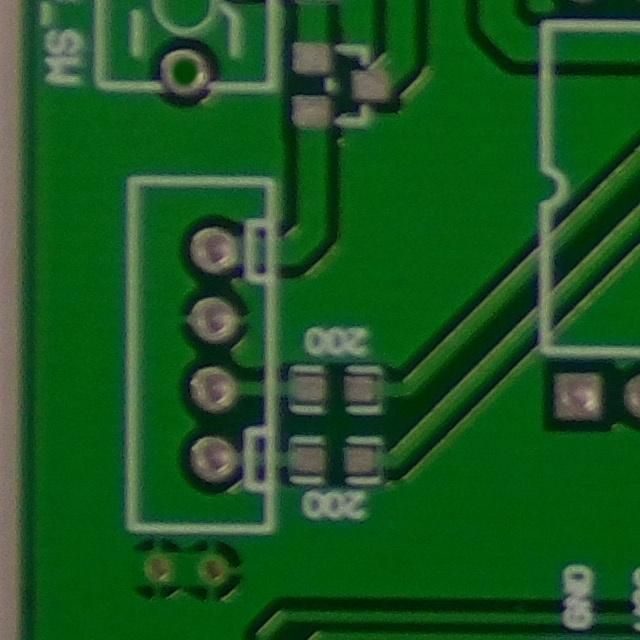missing_hole: (145, 38, 220, 107)
